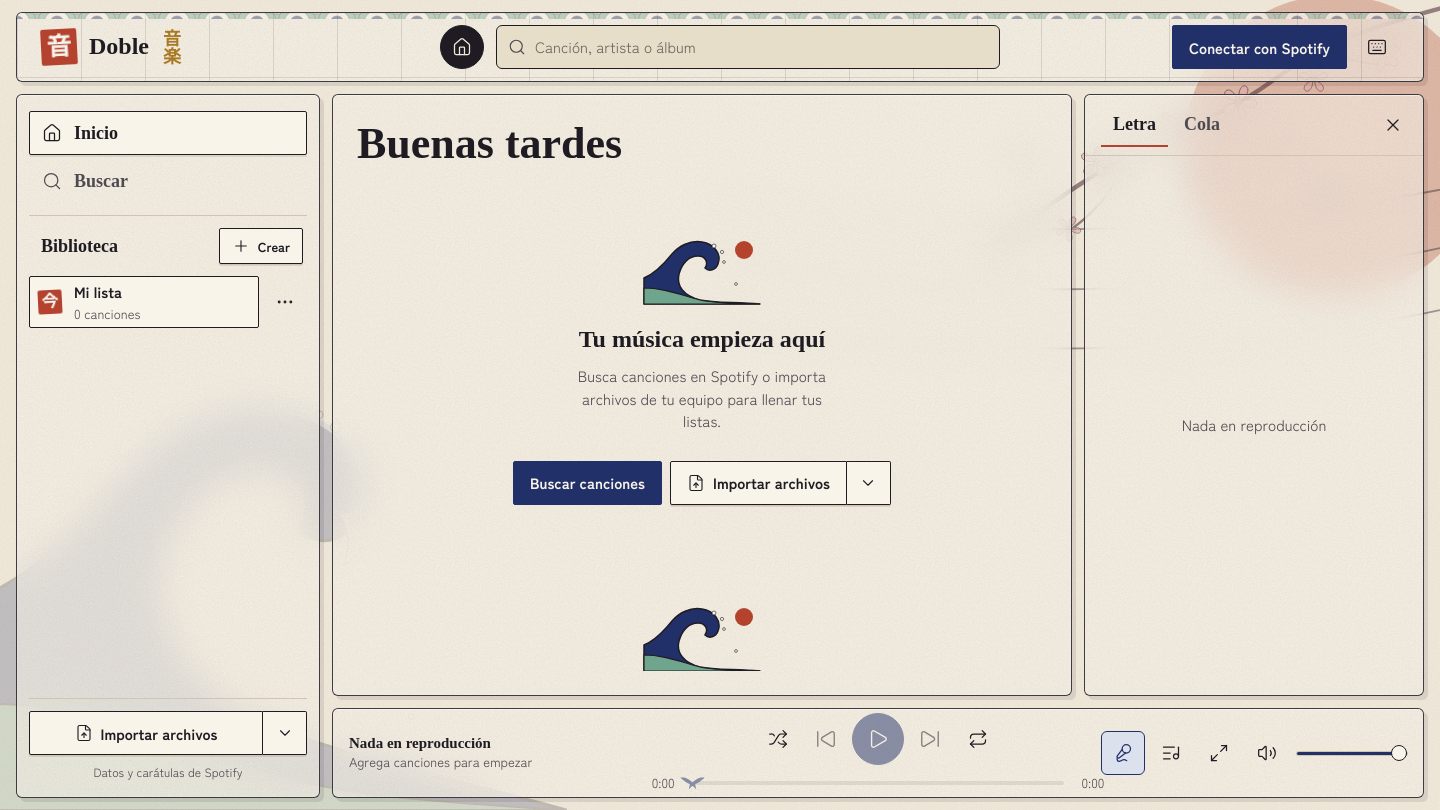
Test: App › opens the shortcuts dialog with ? and from the header button
Step 1. Type keys "?"
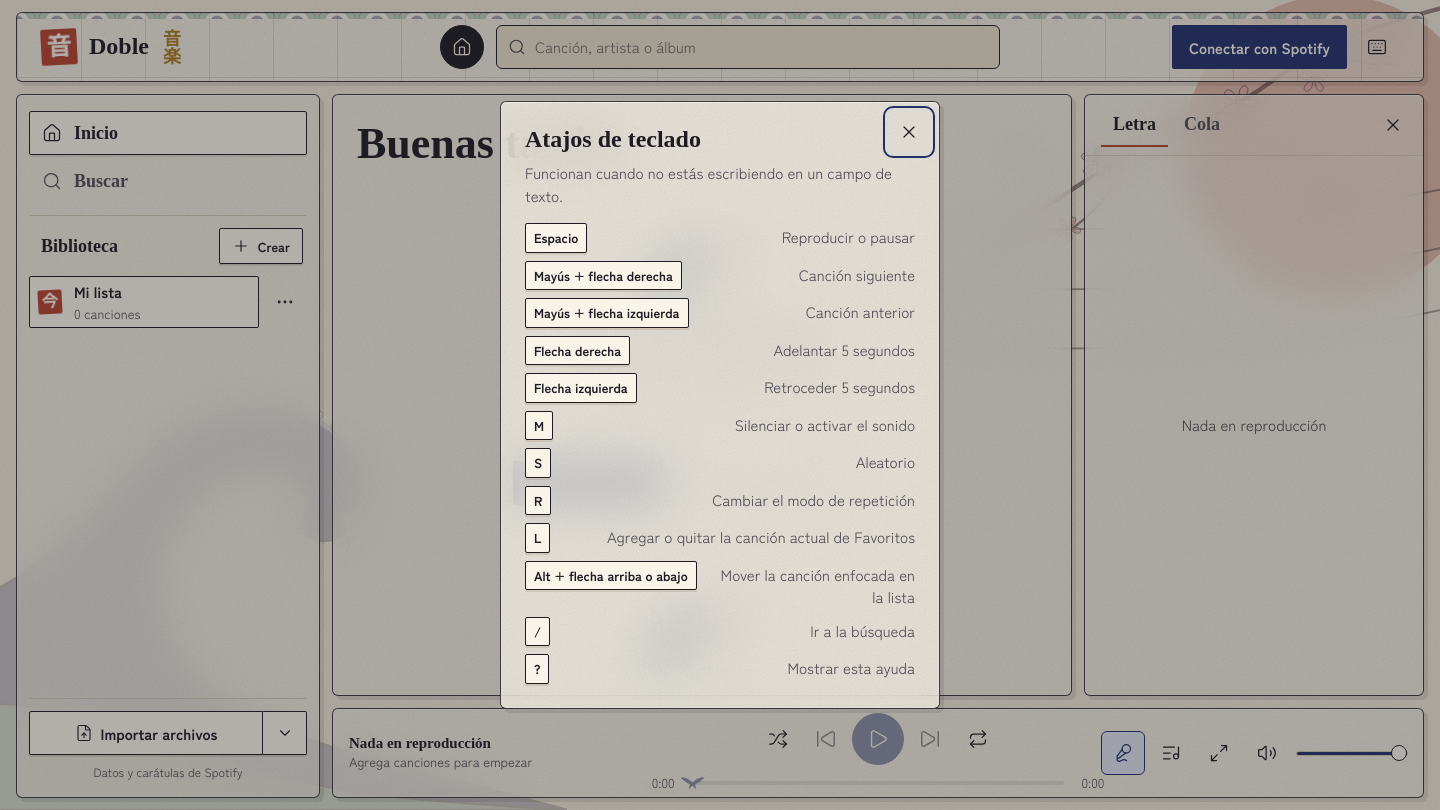
Step 2. Press Escape
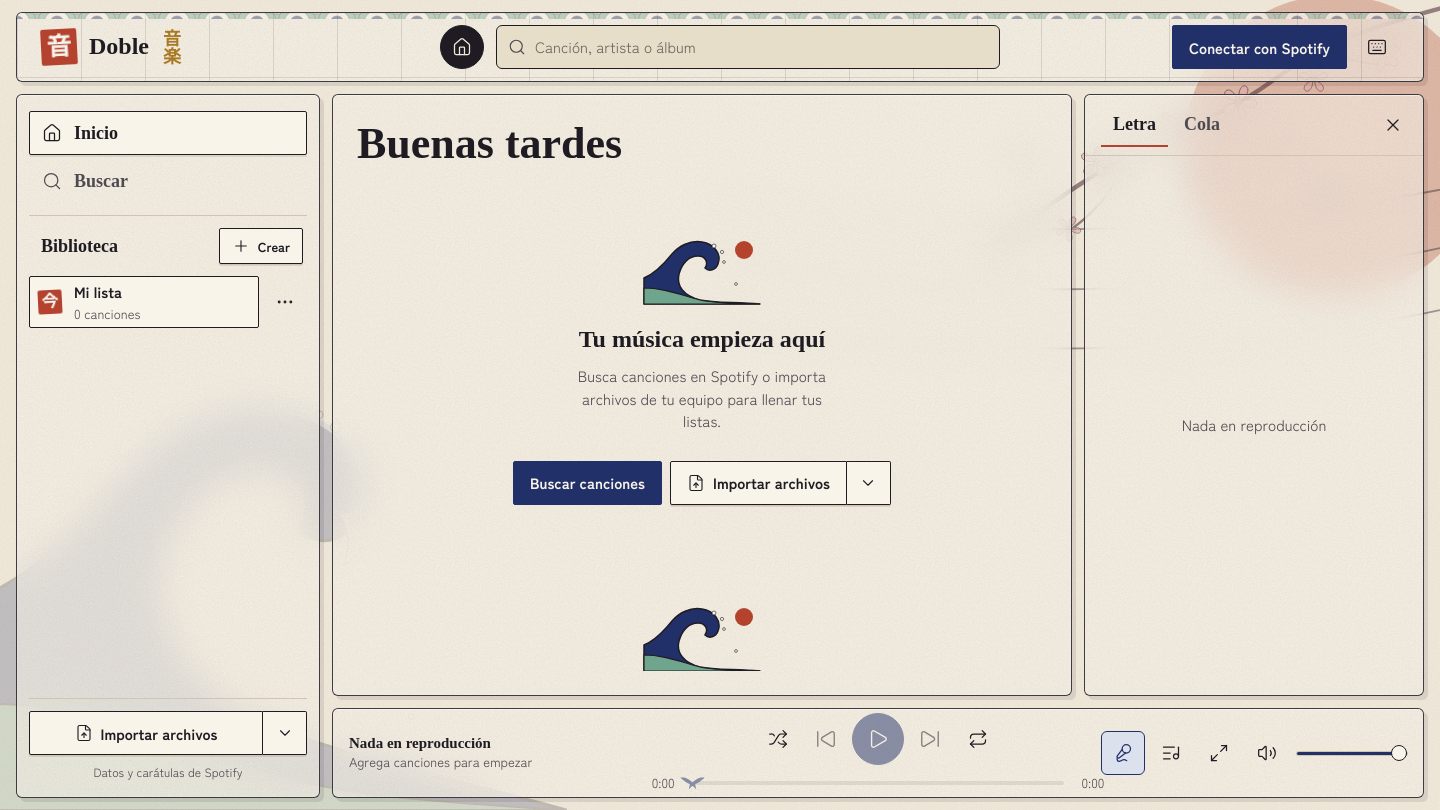
Check: the dialog is gone
Step 3. Click the button named "Ver atajos de teclado" → (1377, 47), box top-left (1355, 25), bottom-right (1399, 69)
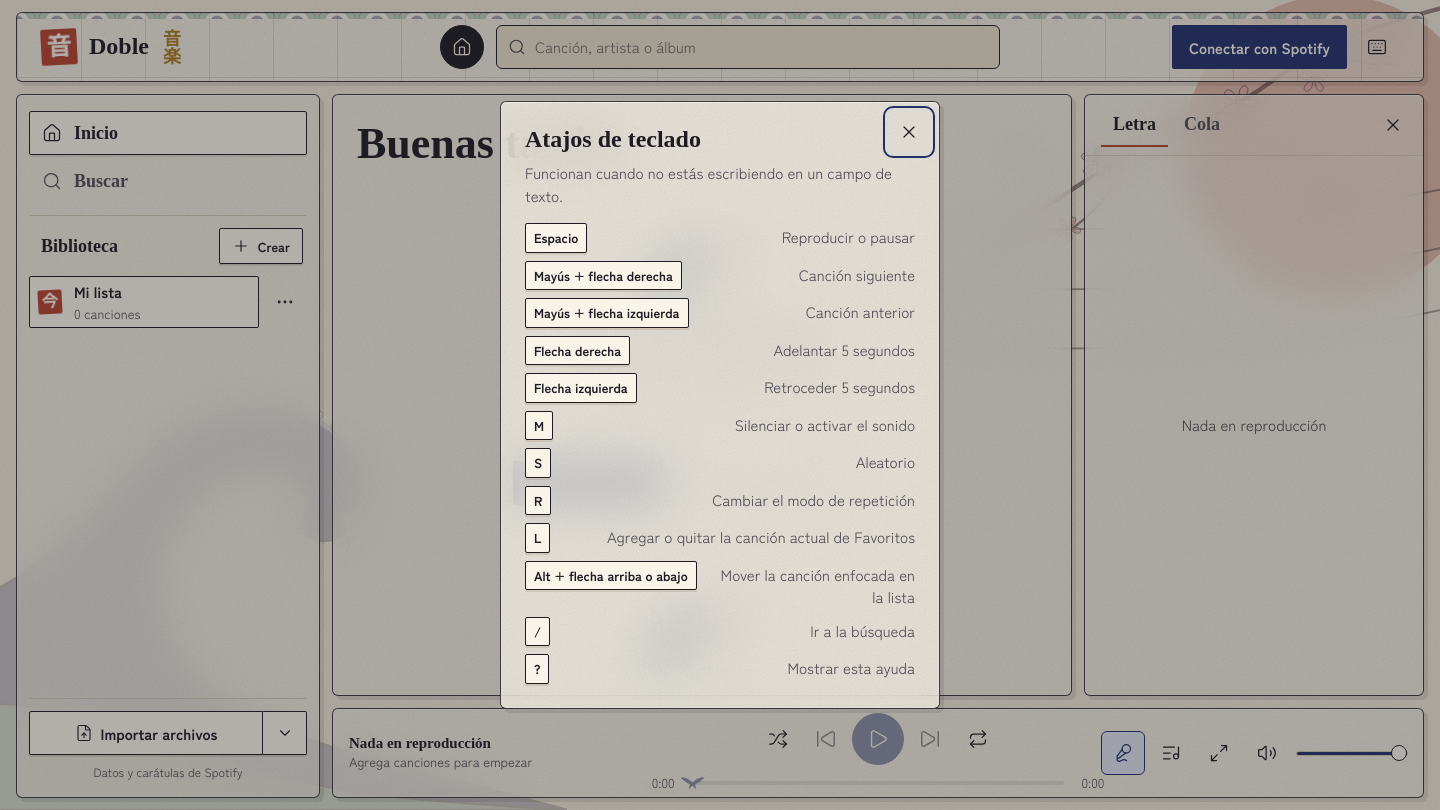
Check: the dialog "Atajos de teclado" is shown, box top-left (500, 102), bottom-right (940, 709)
